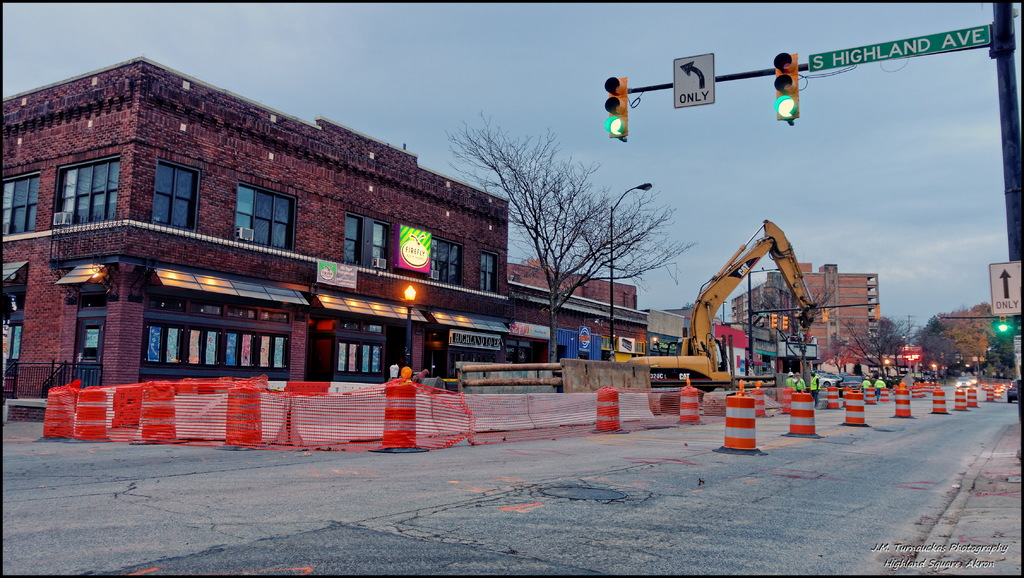green_light: (776, 55, 798, 117), (606, 78, 627, 137)
